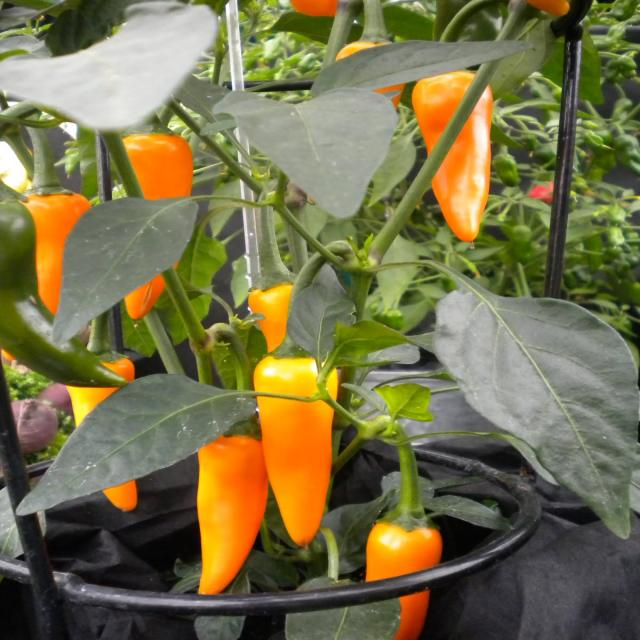Chilli Pepper: (234, 309, 366, 551), (166, 377, 292, 615), (101, 107, 208, 337), (44, 346, 176, 526), (9, 112, 110, 337), (391, 55, 509, 242), (358, 420, 444, 640)
